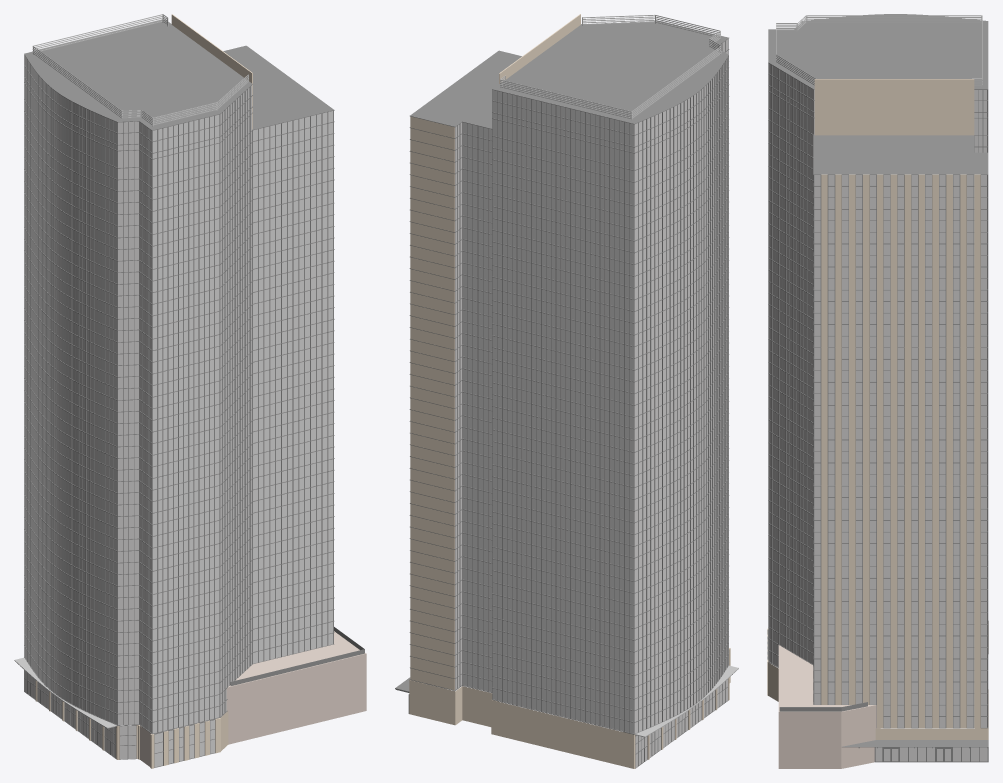
The model's file is Building03.fbx.
3 renders of one model, left to right at view 1: azimuth 30°, elevation 25°; view 2: azimuth 150°, elevation 25°; view 3: azimuth 270°, elevation 25°, orthographic.
Visible parts, largest first — view 1: Building03; view 2: Building03; view 3: Building03.
Boxes of the visible parts, left/top/right/bottom form: Building03: left=14, top=14, right=366, bottom=768; Building03: left=395, top=14, right=738, bottom=768; Building03: left=767, top=14, right=988, bottom=768.
Bounding box in the file's own units: 6628 × 16278 × 5082.
